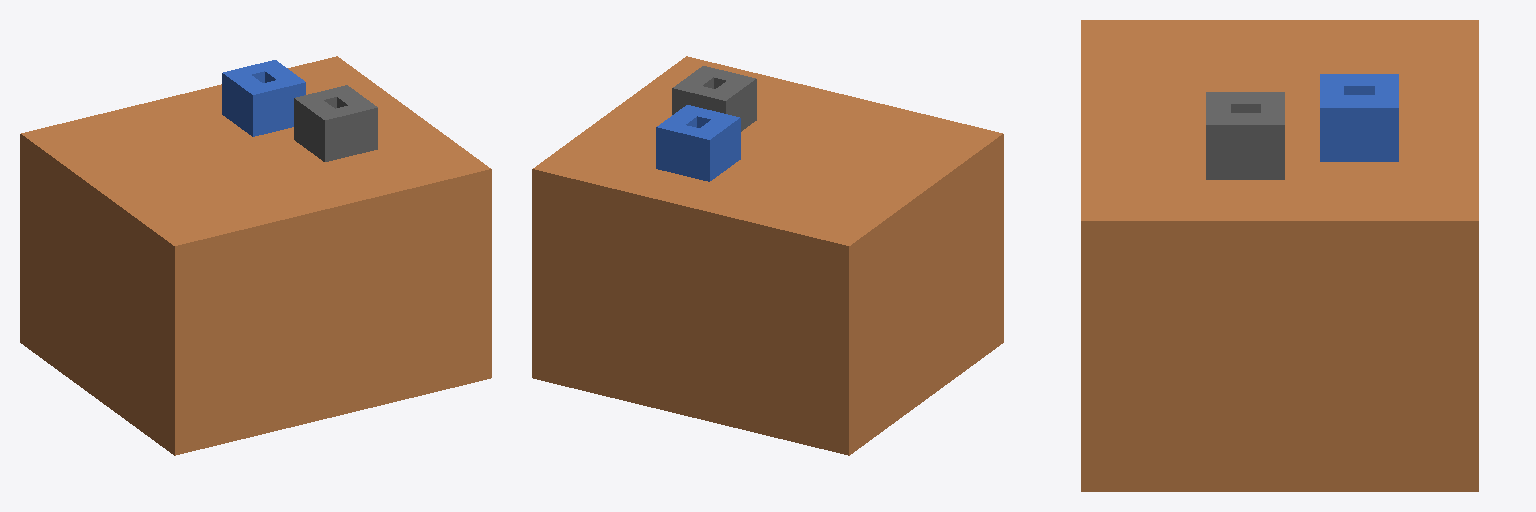
The robot description file, URDF, robot "peg_in_hole_fixtured_scene_0029_peg0014_tol00":
<?xml version="1.0"?>
<robot name="peg_in_hole_fixtured_scene_0029_peg0014_tol00">
  <material name="wood"><color rgba="0.82 0.56 0.35 1.0"/></material>
  <material name="start_fix"><color rgba="0.30 0.50 0.85 1.0"/></material>
  <material name="goal_fix"><color rgba="0.4706 0.4706 0.4706 1.0"/></material>
  <link name="box">
    <visual>
      <origin xyz="0.000000 0.000000 0.000000" rpy="0 0 0"/>
      <geometry><box size="0.475000 0.400000 0.300000"/></geometry>
      <material name="wood"/>
    </visual>
    <collision>
      <origin xyz="0.000000 0.000000 0.000000" rpy="0 0 0"/>
      <geometry><box size="0.475000 0.400000 0.300000"/></geometry>
    </collision>
    <visual>
      <origin xyz="0.058204 0.079686 0.155000" rpy="0 0 0"/>
      <geometry><box size="0.080000 0.080000 0.010000"/></geometry>
      <material name="start_fix"/>
    </visual>
    <collision>
      <origin xyz="0.058204 0.079686 0.155000" rpy="0 0 0"/>
      <geometry><box size="0.080000 0.080000 0.010000"/></geometry>
    </collision>
    <visual>
      <origin xyz="0.083454 0.079686 0.185000" rpy="0 0 0"/>
      <geometry><box size="0.029500 0.080000 0.050000"/></geometry>
      <material name="start_fix"/>
    </visual>
    <collision>
      <origin xyz="0.083454 0.079686 0.185000" rpy="0 0 0"/>
      <geometry><box size="0.029500 0.080000 0.050000"/></geometry>
    </collision>
    <visual>
      <origin xyz="0.032954 0.079686 0.185000" rpy="0 0 0"/>
      <geometry><box size="0.029500 0.080000 0.050000"/></geometry>
      <material name="start_fix"/>
    </visual>
    <collision>
      <origin xyz="0.032954 0.079686 0.185000" rpy="0 0 0"/>
      <geometry><box size="0.029500 0.080000 0.050000"/></geometry>
    </collision>
    <visual>
      <origin xyz="0.058204 0.107436 0.185000" rpy="0 0 0"/>
      <geometry><box size="0.021000 0.024500 0.050000"/></geometry>
      <material name="start_fix"/>
    </visual>
    <collision>
      <origin xyz="0.058204 0.107436 0.185000" rpy="0 0 0"/>
      <geometry><box size="0.021000 0.024500 0.050000"/></geometry>
    </collision>
    <visual>
      <origin xyz="0.058204 0.051936 0.185000" rpy="0 0 0"/>
      <geometry><box size="0.021000 0.024500 0.050000"/></geometry>
      <material name="start_fix"/>
    </visual>
    <collision>
      <origin xyz="0.058204 0.051936 0.185000" rpy="0 0 0"/>
      <geometry><box size="0.021000 0.024500 0.050000"/></geometry>
    </collision>
    <visual>
      <origin xyz="0.100089 -0.034483 0.155000" rpy="0 0 0"/>
      <geometry><box size="0.080000 0.080000 0.010000"/></geometry>
      <material name="goal_fix"/>
    </visual>
    <collision>
      <origin xyz="0.100089 -0.034483 0.155000" rpy="0 0 0"/>
      <geometry><box size="0.080000 0.080000 0.010000"/></geometry>
    </collision>
    <visual>
      <origin xyz="0.125146 -0.034483 0.185000" rpy="0 0 0"/>
      <geometry><box size="0.029886 0.080000 0.050000"/></geometry>
      <material name="goal_fix"/>
    </visual>
    <collision>
      <origin xyz="0.125146 -0.034483 0.185000" rpy="0 0 0"/>
      <geometry><box size="0.029886 0.080000 0.050000"/></geometry>
    </collision>
    <visual>
      <origin xyz="0.075032 -0.034483 0.185000" rpy="0 0 0"/>
      <geometry><box size="0.029886 0.080000 0.050000"/></geometry>
      <material name="goal_fix"/>
    </visual>
    <collision>
      <origin xyz="0.075032 -0.034483 0.185000" rpy="0 0 0"/>
      <geometry><box size="0.029886 0.080000 0.050000"/></geometry>
    </collision>
    <visual>
      <origin xyz="0.100089 -0.006926 0.185000" rpy="0 0 0"/>
      <geometry><box size="0.020228 0.024886 0.050000"/></geometry>
      <material name="goal_fix"/>
    </visual>
    <collision>
      <origin xyz="0.100089 -0.006926 0.185000" rpy="0 0 0"/>
      <geometry><box size="0.020228 0.024886 0.050000"/></geometry>
    </collision>
    <visual>
      <origin xyz="0.100089 -0.062040 0.185000" rpy="0 0 0"/>
      <geometry><box size="0.020228 0.024886 0.050000"/></geometry>
      <material name="goal_fix"/>
    </visual>
    <collision>
      <origin xyz="0.100089 -0.062040 0.185000" rpy="0 0 0"/>
      <geometry><box size="0.020228 0.024886 0.050000"/></geometry>
    </collision>
    <inertial>
      <mass value="500"/>
      <friction value="1.0"/>
      <inertia ixx="1000.0" ixy="0.0" ixz="0.0" iyy="1000.0" iyz="0.0" izz="1000.0"/>
    </inertial>
  </link>
</robot>

--- What the picture shows (computed from the rendered views, not written in the file) ---
Views: 3 orthographic renders of the robot side by side, from view 1: azimuth 30°, elevation 25°; view 2: azimuth 150°, elevation 25°; view 3: azimuth 270°, elevation 25°.
Robot: peg_in_hole_fixtured_scene_0029_peg0014_tol00 — 1 links, 0 joints (none); root link box; default pose: all joints at 0.
Visible links, largest first — view 1: box; view 2: box; view 3: box.
Boxes of the visible links, x1=… form: box: x1=20, y1=56, x2=491, y2=455; box: x1=532, y1=56, x2=1003, y2=455; box: x1=1081, y1=20, x2=1478, y2=491.
Bounding box of the posed robot: 0.475 × 0.4 × 0.36 m (x, y, z).
Geometry: primitives only (box / cylinder / sphere), no mesh files.
